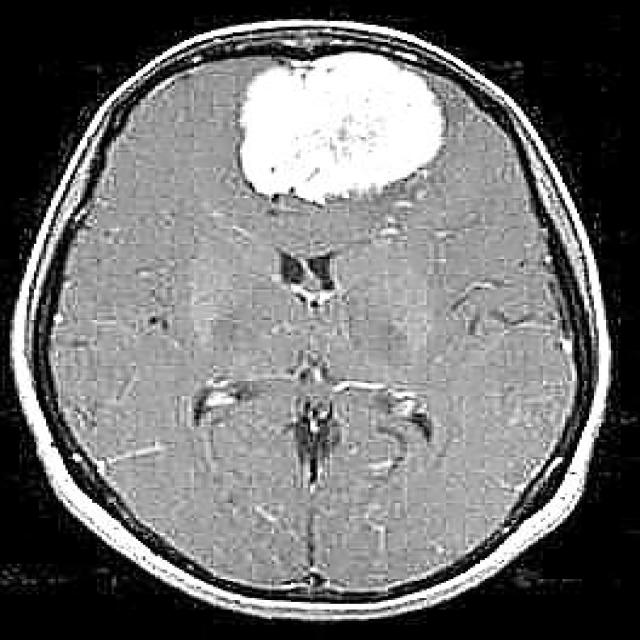Tumor-Cell: (224, 35, 435, 196)
